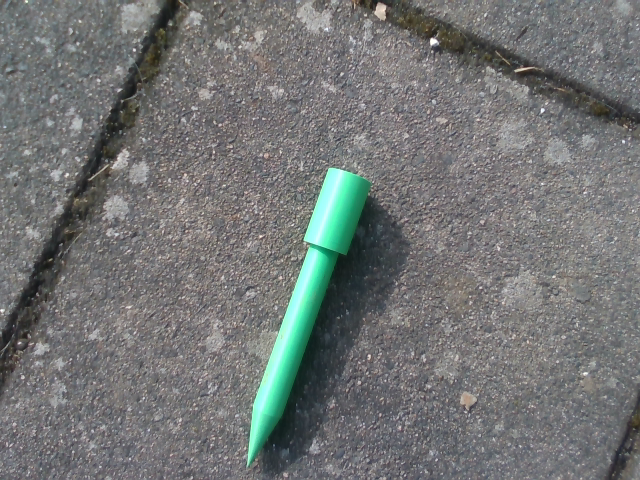Probe: (238, 163, 375, 472)
